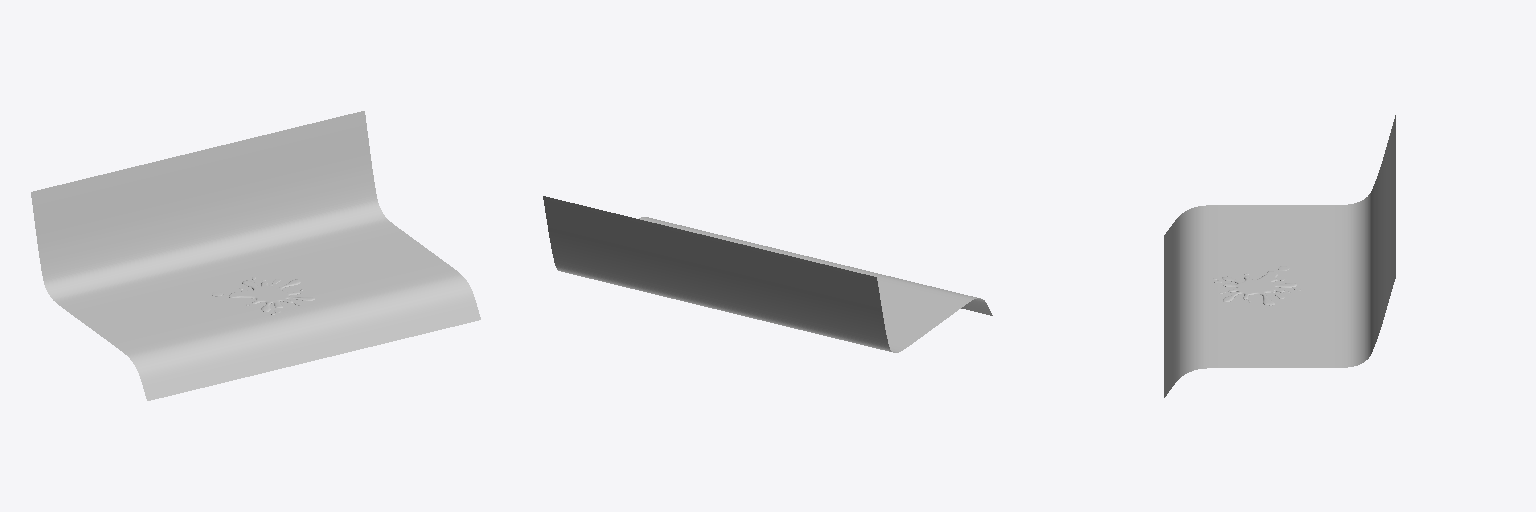
The model's file is spilled-water.obj.
The picture shows the model from 3 angles: view 1: azimuth 30°, elevation 25°; view 2: azimuth 150°, elevation 25°; view 3: azimuth 270°, elevation 25°; orthographic projection.
Parts seen in each view (by area): view 1: Studio, Drop; view 2: Studio; view 3: Studio, Drop.
Boxes of the visible parts, x1,y1,x2,y2 form: Studio: [31, 111, 480, 400]; Drop: [212, 277, 314, 314]; Studio: [543, 196, 992, 352]; Studio: [1164, 115, 1395, 397]; Drop: [1213, 266, 1300, 305].
Size of the model in its own units: 1957 by 695 by 1181.